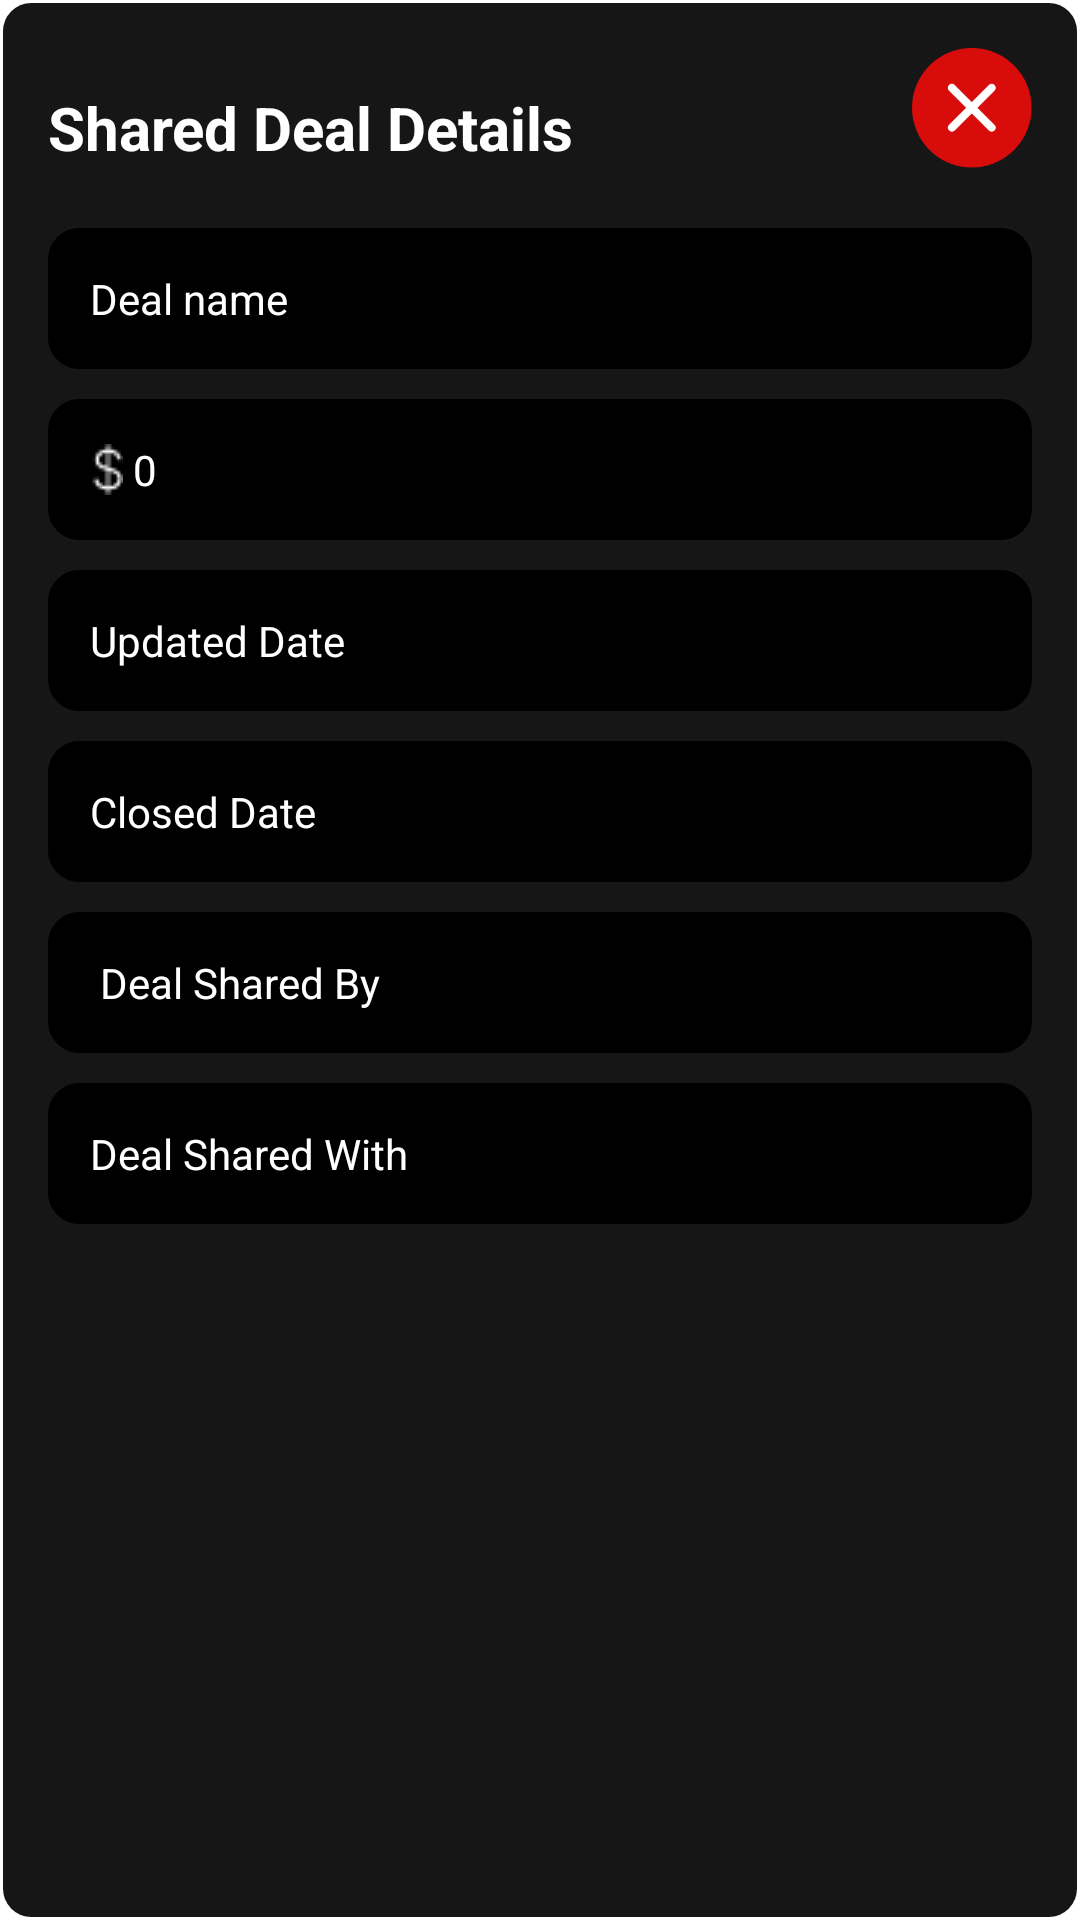

Icon bounding boxes for this 1080*1920 phone screenshot, format (x1, y1, x2, y2):
cancel: (912, 48, 1032, 168)
